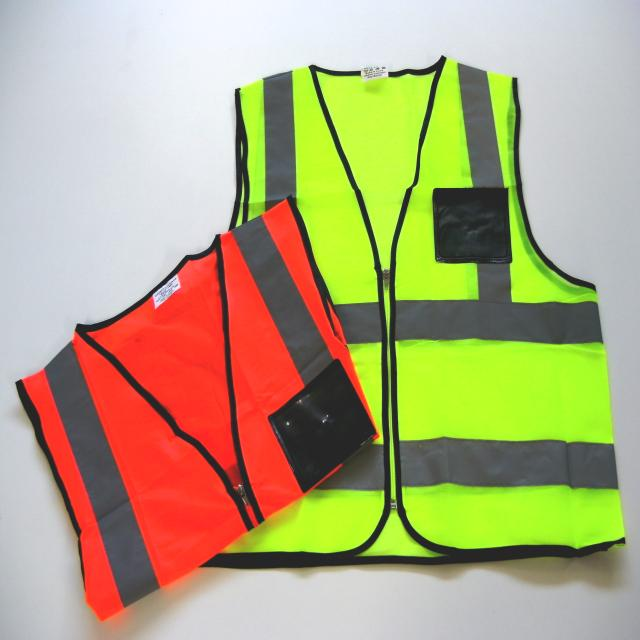Reflective-Jacket: (9, 59, 640, 590)
